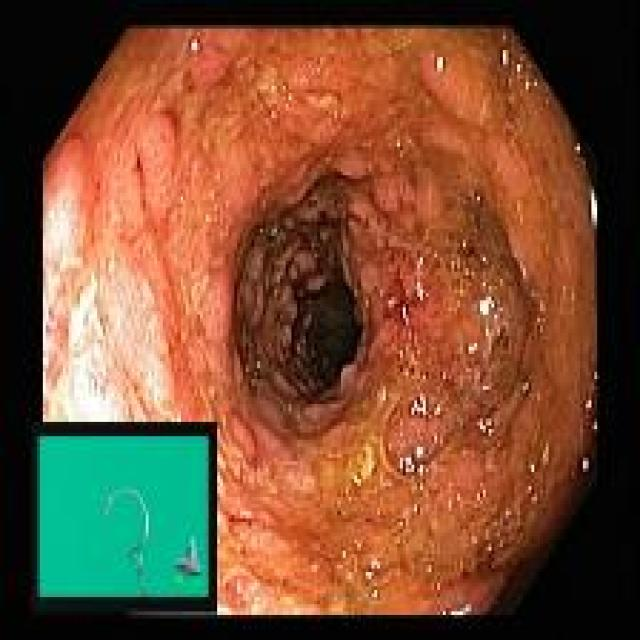ulcerative-colitis: (45, 28, 599, 614)
